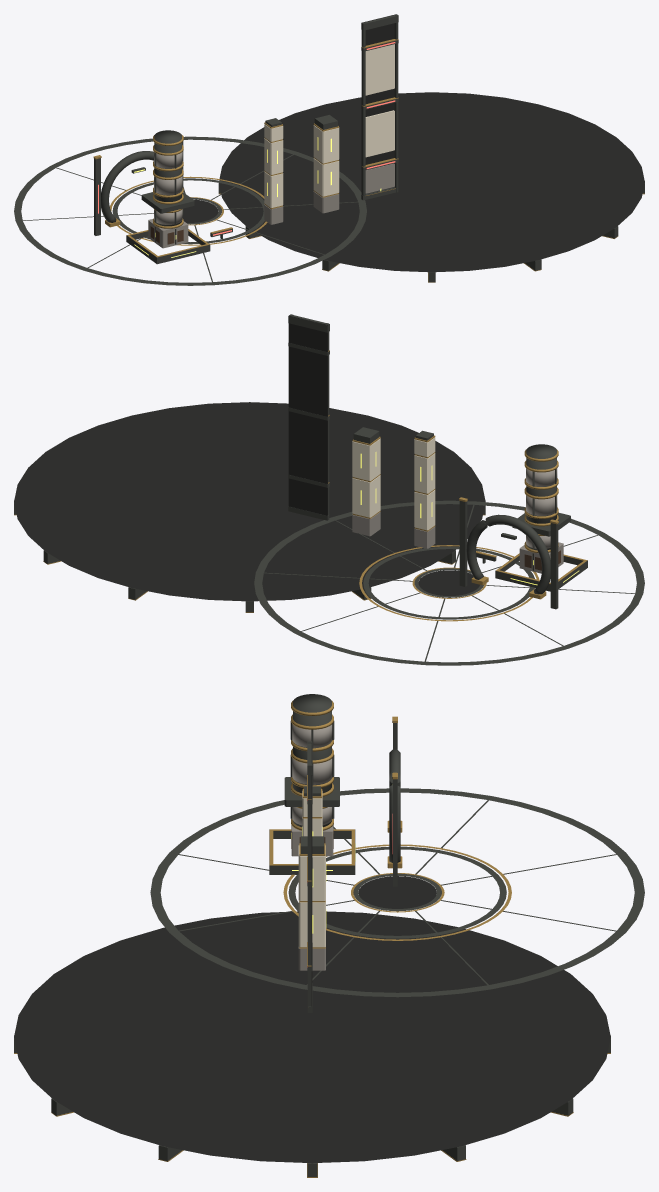
The model's file is kit_ruins_b4.glb.
The picture shows the model from 3 angles, top to bottom: view 1: azimuth 30°, elevation 25°; view 2: azimuth 150°, elevation 25°; view 3: azimuth 270°, elevation 25°; orthographic projection. The views are drawn at different scales.
Parts seen in each view (by area): view 1: b4_ceiling, b4_arena_panel, b4_floor_rings, b4_core, b4_column_wide, b4_column, b4_vault; view 2: b4_ceiling, b4_floor_rings, b4_arena_panel, b4_core, b4_vault, b4_column_wide, b4_column; view 3: b4_ceiling, b4_floor_rings, b4_core, b4_column_wide, b4_vault, b4_arena_panel, b4_column.
Part boxes in pixels (<box>): b4_ceiling: <box>218,92,644,282</box>; b4_arena_panel: <box>361,14,398,200</box>; b4_floor_rings: <box>14,136,366,285</box>; b4_core: <box>126,130,210,264</box>; b4_column_wide: <box>313,115,339,213</box>; b4_column: <box>264,118,283,224</box>; b4_vault: <box>93,136,183,235</box>; b4_ceiling: <box>14,402,485,612</box>; b4_floor_rings: <box>254,500,644,665</box>; b4_arena_panel: <box>288,314,329,520</box>; b4_core: <box>495,444,587,591</box>; b4_vault: <box>459,497,558,609</box>; b4_column_wide: <box>352,427,380,536</box>; b4_column: <box>414,430,435,548</box>; b4_ceiling: <box>14,911,610,1177</box>; b4_floor_rings: <box>150,788,644,997</box>; b4_core: <box>269,694,355,874</box>; b4_column_wide: <box>298,836,326,970</box>; b4_vault: <box>387,716,402,886</box>; b4_arena_panel: <box>307,741,312,1012</box>; b4_column: <box>302,786,322,836</box>.
Bounding box in the file's own units: 52 × 17.09 × 37.
